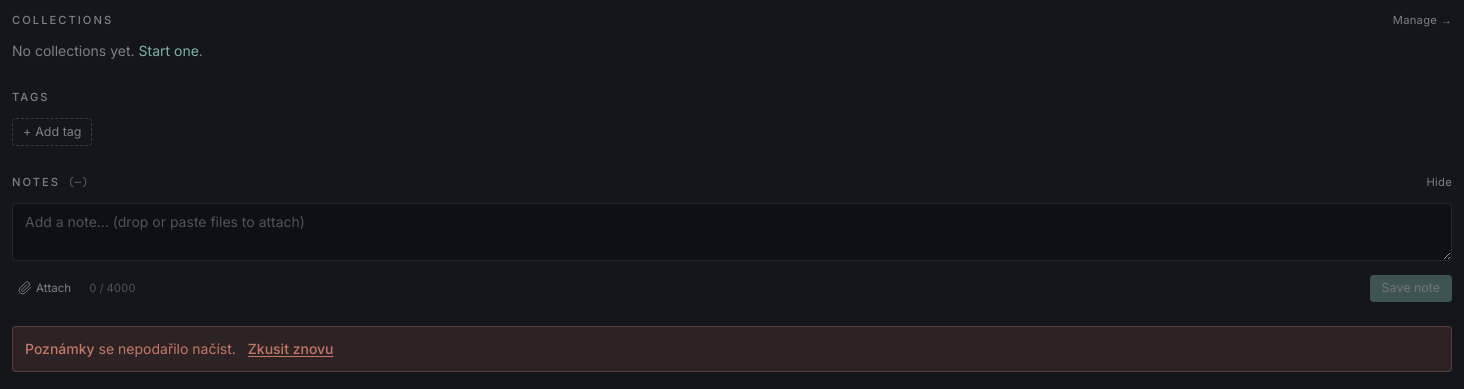
Test: <CurationBlock> failed reads › says the notes failed, with no "(0)", and reads them again
Check: the text "(—)" is shown, box [68,175,88,189]
Click the button "Zkusit znovu".
click(291, 349)  # box [248,339,334,359]
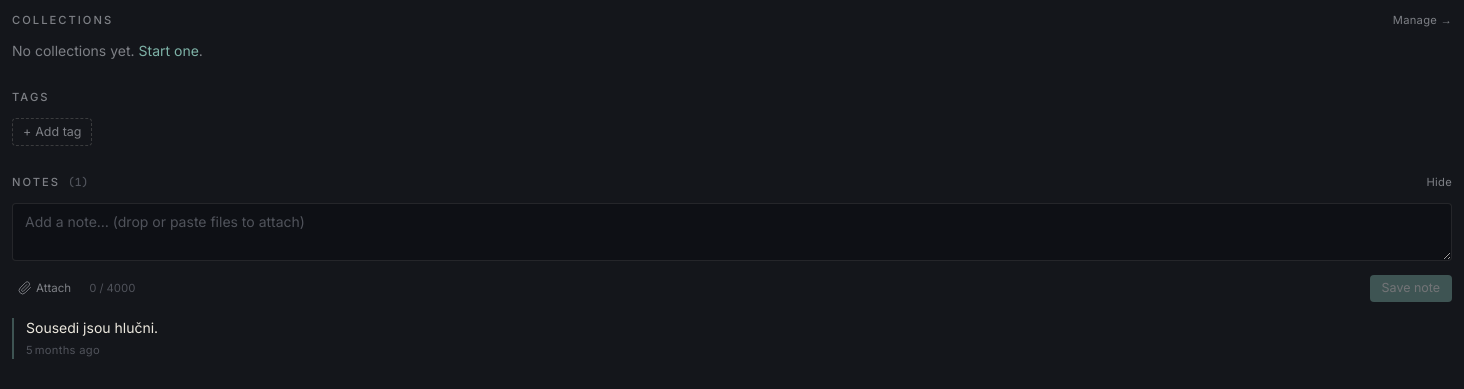
Check: the text "Sousedi jsou hlučni." is shown, box [26,318,158,338]
Check: the text "(1)" is shown, box [68,175,88,189]
